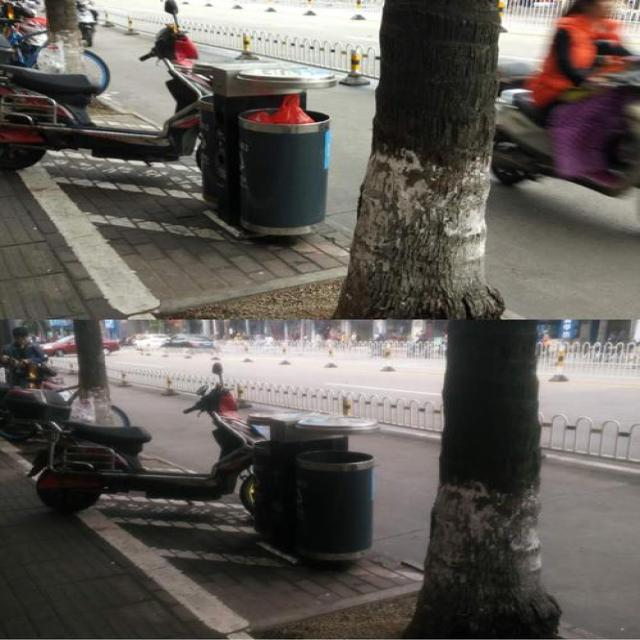garbage_bin: (248, 412, 375, 560)
overflow: (191, 61, 335, 232)
